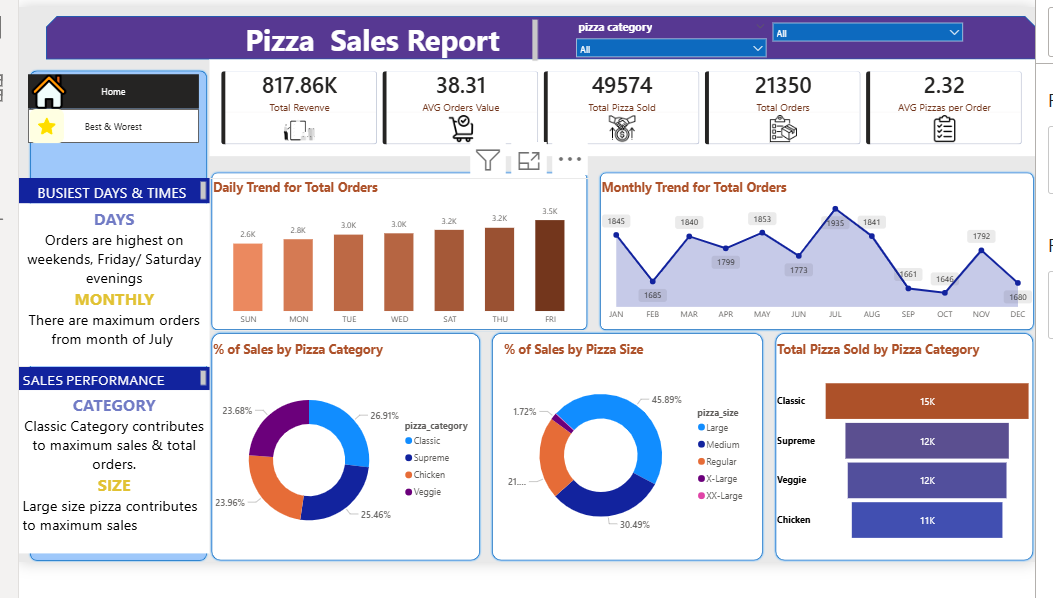

What the dashboard file says about the page in this screenshot:
{"tool":"powerbi","page":{"name":"Home","canvas":[1500,820],"ordinal":0},"visuals":[{"type":"cardVisual","fields":{"Data":["measrure.Total Revenve","measrure.AVG Orders Value","measrure.Total Pizza Sold","measrure.Total Orders","measrure.AVG Pizzas per Order"]},"box":[281.3,78.3,1219.3,142.4],"z":0},{"type":"shape","box":[14.2,90.8,267,729.8],"z":1000},{"type":"shape","box":[39.2,14.2,1461.4,64.1],"z":2000},{"type":"textbox","box":[281.3,13.3,489.4,77.5],"z":3000},{"type":"shape","box":[281.3,240.3,560.7,238.5],"z":4000},{"type":"clusteredColumnChart","title":"Daily Trend for Total Orders","fields":{"Y":["measrure.Total Orders"],"Category":["public pizza_sales.Order Day"]},"box":[281.3,252.8,560.7,226.1],"z":5000},{"type":"shape","box":[854.4,240.3,646.2,238.5],"z":6000},{"type":"areaChart","title":"Monthly Trend for Total Orders","fields":{"Category":["public pizza_sales.Order Month"],"Y":["measrure.Total Orders"]},"box":[854.4,252.8,646.2,218.9],"z":7000},{"type":"shape","box":[281.3,478.8,402.3,341.8],"z":8000},{"type":"shape","box":[696,478.8,405.9,341.8],"z":9000},{"type":"shape","box":[1114.3,478.8,386.3,341.8],"z":10000},{"type":"donutChart","title":"% of Sales by Pizza Category","fields":{"Category":["public pizza_sales.pizza_category"],"Y":["measrure.Total Revenve"]},"box":[281.3,491.3,402.3,329.3],"z":11000},{"type":"donutChart","title":"% of Sales by Pizza Size","fields":{"Y":["measrure.Total Revenve"],"Category":["public pizza_sales.pizza_size"]},"box":[710.2,491.3,375.6,315.1],"z":12000},{"type":"funnel","title":"Total Pizza Sold by Pizza Category","fields":{"Category":["public pizza_sales.pizza_category"],"Y":["measrure.Total Pizza Sold"]},"box":[1114.3,491.3,386.3,329.3],"z":13000},{"type":"textbox","box":[0,252.8,281.3,37.4],"z":14000},{"type":"textbox","box":[0,290.2,281.3,240.3],"z":15000},{"type":"textbox","box":[0,564.3,281.3,242.1],"z":16000},{"type":"textbox","box":[0,530.5,281.3,33.8],"z":17000},{"type":"slicer","fields":{"Values":["public pizza_sales.pizza_category"]},"box":[813.5,14.2,300.8,64.1],"z":18000},{"type":"slicer","fields":{"Values":["public pizza_sales.Order Day"]},"box":[1101.9,14.2,300.8,64.1],"z":19000},{"type":"pageNavigator","box":[13.3,150.6,252.5,50.9],"z":20000},{"type":"pageNavigator","box":[13.3,99.7,252.5,50.9],"z":21000},{"type":"image","box":[0,99.7,88.6,50.9],"z":22000},{"type":"image","box":[11.1,150.6,59.8,50.9],"z":23000}]}

Visuals, with their boxes on the page's 1500x820 design canvas (x1, y1, x2, y2). These are canvas units, not pixel positions in the 1053x598 screenshot, which may show the page scaled, cropped or inside an application window:
cardVisual - measrure.Total Revenve x measrure.AVG Orders Value: 281 78 1501 221
shape: 14 91 281 821
shape: 39 14 1501 78
textbox: 281 13 771 91
shape: 281 240 842 479
"Daily Trend for Total Orders" clusteredColumnChart: 281 253 842 479
shape: 854 240 1501 479
"Monthly Trend for Total Orders" areaChart: 854 253 1501 472
shape: 281 479 684 821
shape: 696 479 1102 821
shape: 1114 479 1501 821
"% of Sales by Pizza Category" donutChart: 281 491 684 821
"% of Sales by Pizza Size" donutChart: 710 491 1086 806
"Total Pizza Sold by Pizza Category" funnel: 1114 491 1501 821
textbox: 0 253 281 290
textbox: 0 290 281 530
textbox: 0 564 281 806
textbox: 0 530 281 564
slicer - public pizza_sales.pizza_category: 814 14 1114 78
slicer - public pizza_sales.Order Day: 1102 14 1403 78
pageNavigator: 13 151 266 202
pageNavigator: 13 100 266 151
image: 0 100 89 151
image: 11 151 71 202
